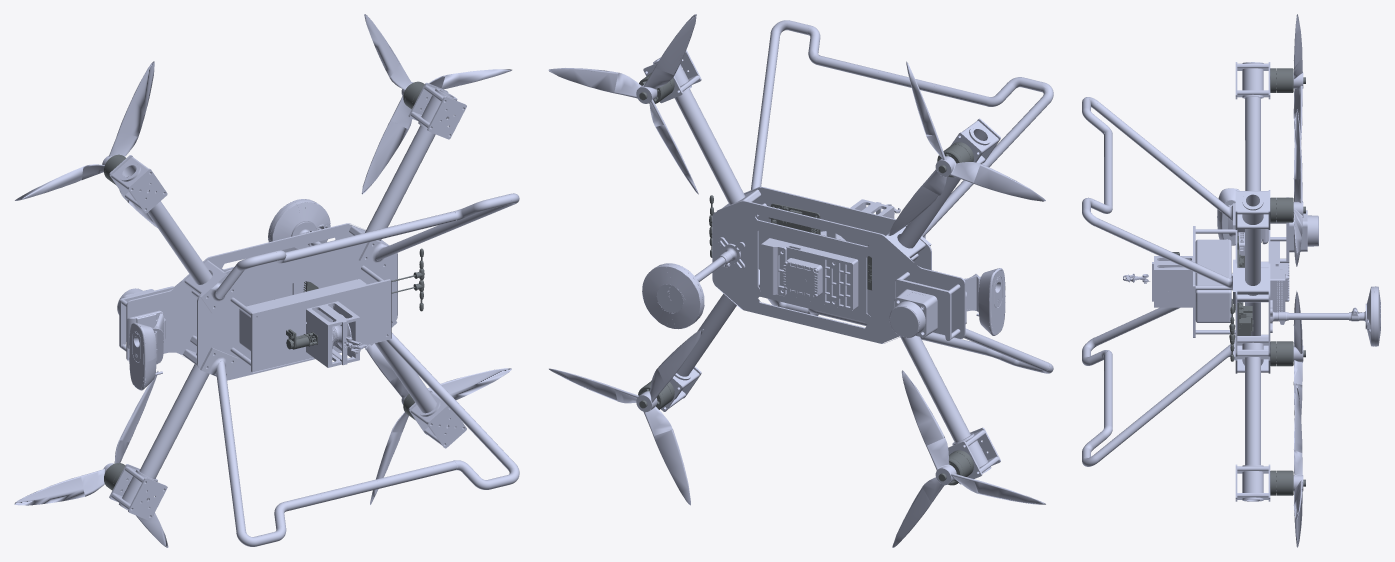
The model's file is drone-draco.glb.
3 views of the same model, side by side, from view 1: azimuth 30°, elevation 25°; view 2: azimuth 150°, elevation 25°; view 3: azimuth 270°, elevation 25° (orthographic). The views are drawn at different scales.
Visible parts, largest first — view 1: =>[0:1:1:74], Mid plate (Correct), Right Landing Gear, Left Landing Gear, Top plate new(Correct0, Back Left Propeller, Front Right Propeller, Front Left Propeller, Back Right Propeller, Front Right Arm, Back Left Arm, Front Left Arm (+10 smaller); view 2: Top plate new(Correct0, Left Landing Gear, PIXHAWK 5X-6X, Back Right Propeller, Front Right Propeller, Back Left Propeller, Front Left Propeller, Mid plate (Correct), =>[0:1:1:41], Right Landing Gear, Back Left Arm, Front Right Arm (+7 smaller); view 3: Left Landing Gear, Right Landing Gear, Li ion Battery, =>[0:1:1:74], Back Right Arm, Front Left Arm, Back Right Propeller, Back Left Propeller, PIXHAWK 5X-6X, Back Left Arm, Front Left Propeller, Front Right Propeller (+20 smaller).
Part boxes in pixels (bbox=[...]): =>[0:1:1:74]: bbox=[251, 279, 391, 372]; Mid plate (Correct): bbox=[197, 240, 397, 380]; Right Landing Gear: bbox=[200, 314, 519, 546]; Left Landing Gear: bbox=[200, 193, 519, 313]; Top plate new(Correct0: bbox=[126, 223, 365, 361]; Back Left Propeller: bbox=[361, 14, 511, 194]; Front Right Propeller: bbox=[14, 371, 168, 547]; Front Left Propeller: bbox=[15, 61, 157, 227]; Back Right Propeller: bbox=[366, 343, 511, 504]; Front Right Arm: bbox=[139, 364, 209, 479]; Back Left Arm: bbox=[365, 89, 454, 240]; Front Left Arm: bbox=[121, 164, 212, 284]; Top plate new(Correct0: bbox=[712, 200, 965, 343]; Left Landing Gear: bbox=[744, 20, 1053, 245]; PIXHAWK 5X-6X: bbox=[760, 238, 858, 310]; Back Right Propeller: bbox=[549, 329, 703, 505]; Front Right Propeller: bbox=[892, 370, 1045, 547]; Back Left Propeller: bbox=[548, 14, 698, 194]; Front Left Propeller: bbox=[888, 61, 1045, 235]; Mid plate (Correct): bbox=[744, 187, 931, 315]; =>[0:1:1:41]: bbox=[642, 264, 702, 329]; Right Landing Gear: bbox=[768, 298, 1053, 373]; Back Left Arm: bbox=[656, 58, 745, 204]; Front Right Arm: bbox=[900, 335, 970, 442]; Left Landing Gear: bbox=[1082, 97, 1235, 303]; Right Landing Gear: bbox=[1082, 259, 1235, 466]; Li ion Battery: bbox=[1195, 239, 1231, 322]; =>[0:1:1:74]: bbox=[1154, 226, 1195, 337]; Back Right Arm: bbox=[1245, 357, 1260, 501]; Front Left Arm: bbox=[1245, 97, 1260, 190]; Back Right Propeller: bbox=[1293, 383, 1303, 547]; Back Left Propeller: bbox=[1293, 109, 1303, 266]; PIXHAWK 5X-6X: bbox=[1270, 241, 1289, 321]; Back Left Arm: bbox=[1245, 194, 1260, 285]; Front Left Propeller: bbox=[1293, 14, 1303, 143]; Front Right Propeller: bbox=[1293, 291, 1303, 418].
Size of the model in its own units: 0.573 by 0.5463 by 0.336.
